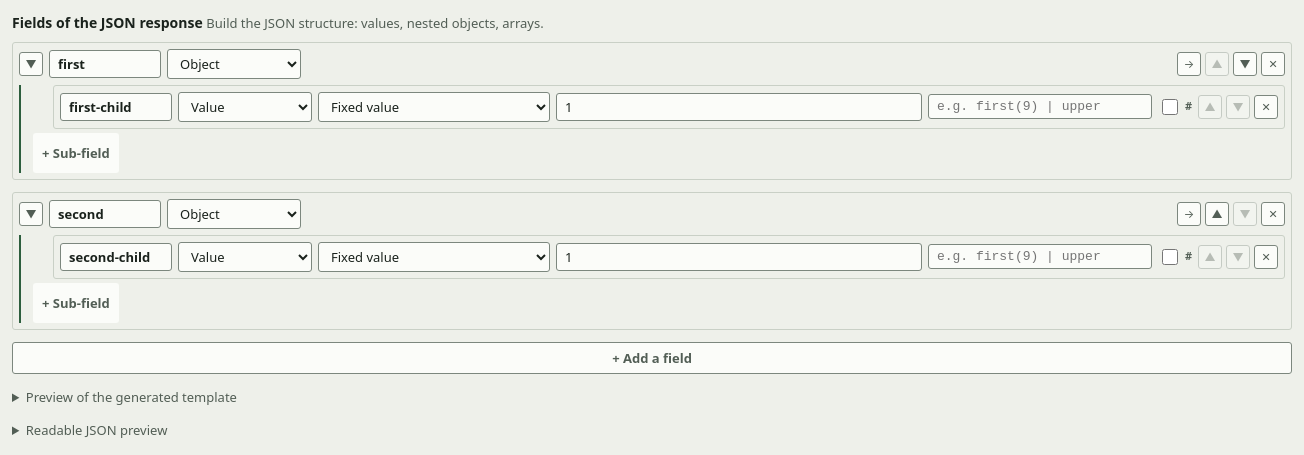
JsonResponseBuilder: a fold follows its field › when a field before it is deleted
Step 1. Click the 4th button "▼" → (31, 214), box x1=19 y1=202 x2=43 y2=226
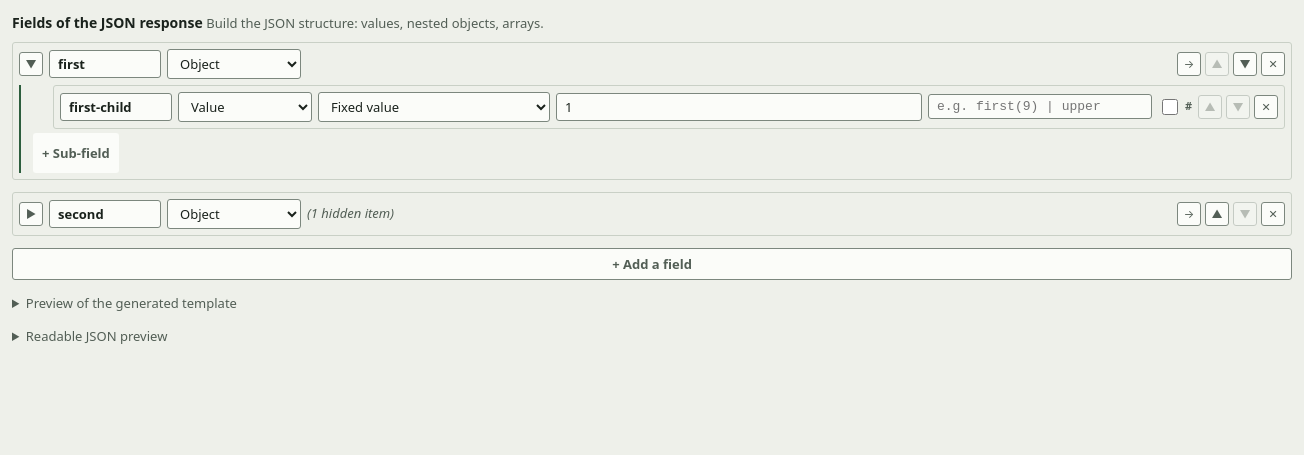
Step 2. Click the 1st button "✕" → (1273, 64), box x1=1261 y1=52 x2=1285 y2=76
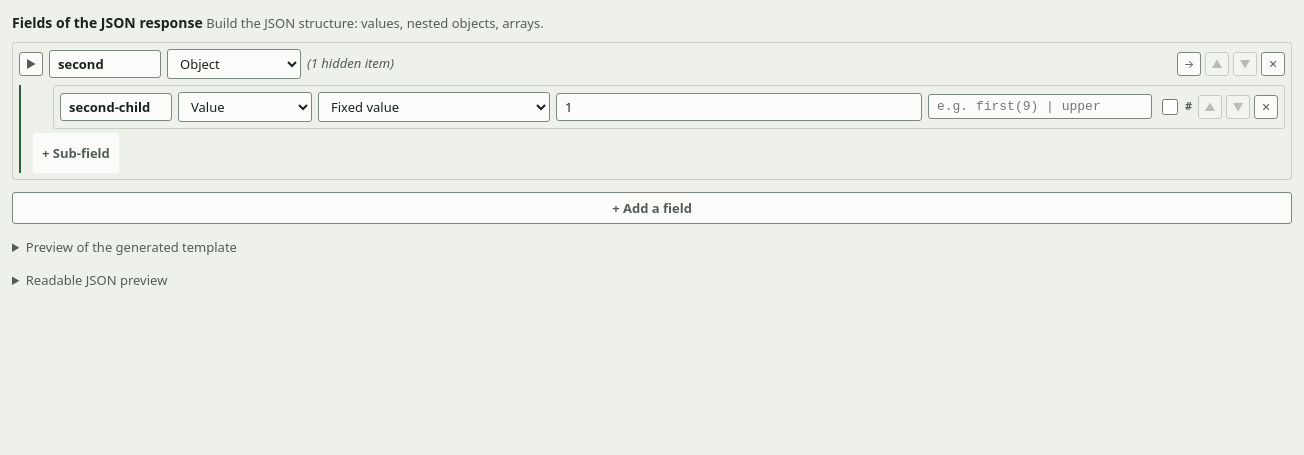
Check: the field with test id "json-builder-key-input-0" holds "second", box x1=49 y1=50 x2=161 y2=78
